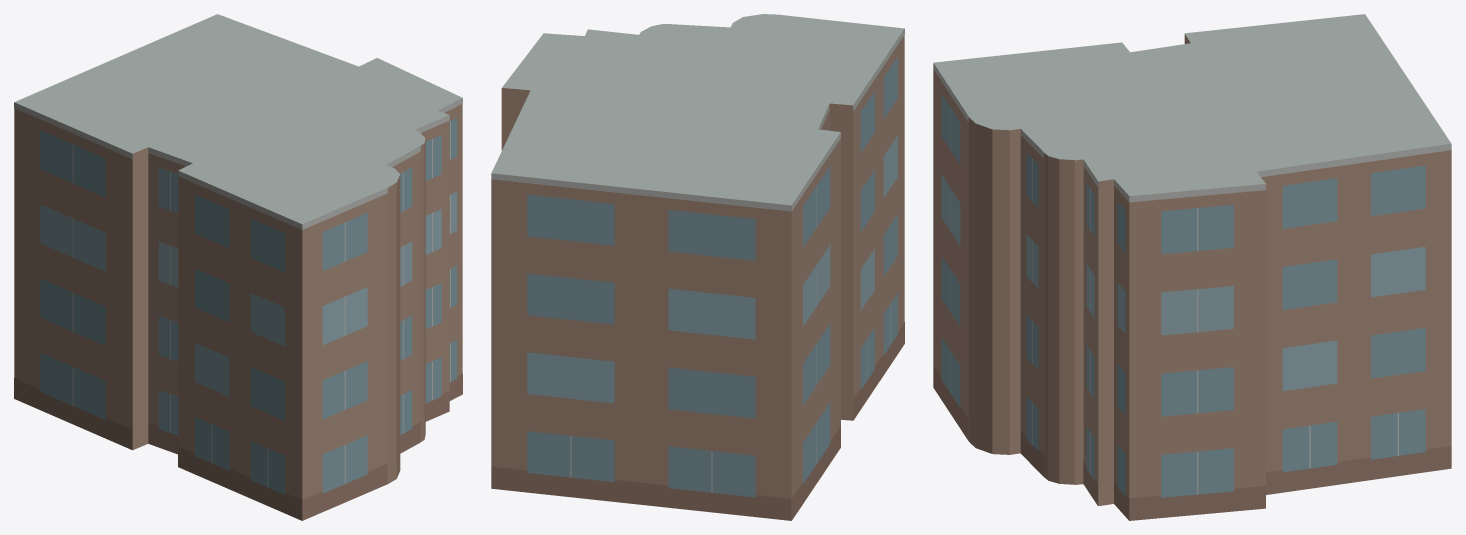
Rendered from survey-upis-32501982.glb.
3 views of the same model, side by side, from view 1: azimuth 30°, elevation 25°; view 2: azimuth 150°, elevation 25°; view 3: azimuth 270°, elevation 25° (orthographic). The views are drawn at different scales.
Parts seen in each view (by area): view 1: survey-upis-32501982.tmp; view 2: survey-upis-32501982.tmp; view 3: survey-upis-32501982.tmp.
Boxes of the visible parts, x1,y1,x2,y2 form: survey-upis-32501982.tmp: [14, 14, 462, 520]; survey-upis-32501982.tmp: [491, 14, 904, 520]; survey-upis-32501982.tmp: [933, 14, 1451, 520].
Bounding box in the file's own units: 15.29 × 12.7 × 18.39.
